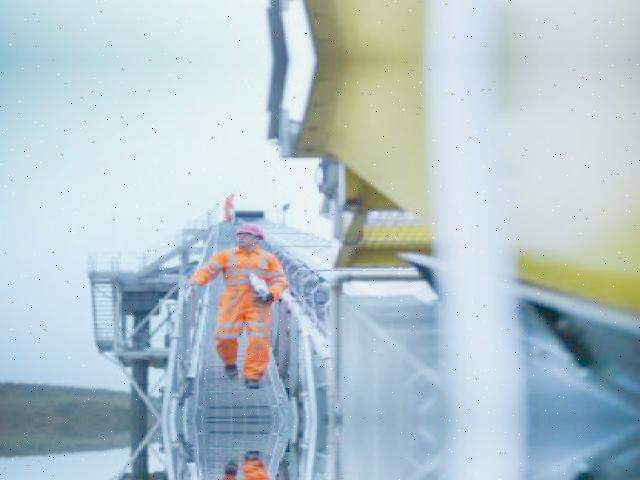Helmet: (233, 220, 271, 244)
